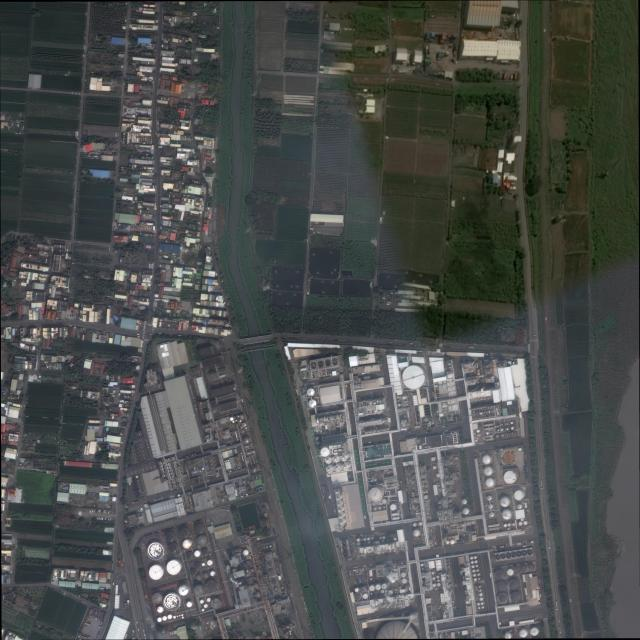large-vehicle: (95, 611, 99, 620), (221, 509, 229, 512), (548, 539, 550, 549), (556, 601, 558, 610), (541, 480, 543, 489), (559, 626, 561, 634), (127, 505, 132, 508), (133, 502, 138, 504), (469, 346, 473, 348)
storage-tank: (401, 366, 425, 390), (147, 542, 164, 561), (163, 594, 180, 611), (368, 488, 382, 502), (167, 560, 180, 575), (149, 566, 162, 580), (504, 471, 516, 484), (211, 598, 221, 609), (152, 593, 162, 604), (206, 581, 216, 591), (178, 586, 188, 596), (193, 586, 203, 596), (500, 497, 510, 507), (179, 529, 188, 539), (502, 510, 511, 520), (514, 491, 523, 501), (482, 455, 491, 465), (511, 592, 520, 602), (509, 580, 518, 590), (197, 536, 206, 545), (182, 540, 191, 549), (168, 544, 177, 553), (484, 467, 493, 476), (498, 594, 507, 603), (496, 582, 505, 591), (321, 447, 329, 457), (195, 525, 203, 534), (166, 533, 174, 542), (486, 478, 494, 487), (307, 389, 315, 397), (496, 570, 503, 579), (243, 437, 250, 445), (340, 454, 347, 462), (333, 455, 340, 463), (531, 628, 538, 636), (519, 630, 527, 637), (309, 400, 316, 408), (251, 466, 258, 473), (342, 464, 349, 471), (334, 465, 341, 472), (325, 457, 332, 464), (354, 593, 361, 600), (194, 563, 201, 570), (520, 566, 527, 573), (413, 530, 420, 537), (326, 467, 333, 473), (202, 549, 208, 556), (186, 553, 193, 559), (463, 508, 469, 515), (505, 632, 511, 639), (507, 569, 513, 576), (390, 504, 396, 511), (528, 565, 534, 571), (186, 602, 192, 608), (157, 607, 163, 613), (194, 551, 200, 557), (191, 570, 197, 576), (243, 550, 248, 556), (369, 586, 375, 591), (360, 588, 365, 594), (203, 573, 209, 578), (207, 560, 212, 566), (339, 519, 344, 524), (338, 513, 343, 518), (337, 501, 342, 506), (336, 495, 341, 500), (363, 594, 368, 599), (162, 616, 167, 621), (157, 617, 162, 622), (196, 575, 201, 580), (210, 571, 215, 576), (517, 504, 522, 509), (488, 504, 493, 509), (462, 499, 467, 504), (487, 495, 492, 500), (382, 499, 387, 504), (353, 376, 358, 381), (382, 584, 387, 589), (375, 585, 380, 590), (402, 579, 407, 584), (401, 573, 406, 578), (338, 507, 342, 513), (490, 512, 494, 517), (388, 590, 392, 595), (523, 521, 527, 525), (242, 423, 246, 427), (178, 473, 182, 477), (173, 461, 177, 465), (247, 556, 251, 560), (357, 542, 361, 546), (356, 538, 360, 542), (355, 588, 359, 592), (204, 604, 208, 608), (207, 598, 211, 602), (200, 600, 204, 604), (168, 615, 172, 619), (186, 504, 190, 508), (518, 522, 522, 526), (450, 540, 454, 544), (240, 415, 243, 419), (230, 417, 233, 421), (178, 470, 181, 474), (165, 463, 168, 467), (374, 507, 377, 511), (172, 457, 175, 461), (168, 458, 171, 462), (160, 464, 163, 468), (158, 461, 161, 465), (186, 500, 189, 504), (185, 496, 188, 500), (316, 437, 319, 441), (508, 523, 511, 527), (466, 522, 470, 525), (513, 567, 517, 570), (480, 597, 483, 601), (419, 522, 422, 526), (413, 523, 416, 527), (402, 396, 405, 400), (393, 533, 396, 537), (437, 583, 441, 586), (237, 415, 240, 418), (239, 419, 242, 422), (235, 419, 238, 422), (177, 467, 180, 470), (174, 465, 177, 468), (171, 475, 174, 478), (171, 472, 174, 475), (170, 469, 173, 472), (169, 466, 172, 469), (168, 463, 171, 466), (257, 537, 260, 540), (368, 541, 371, 544), (367, 538, 370, 541), (363, 538, 366, 541), (165, 459, 168, 462), (201, 609, 204, 612), (173, 616, 176, 619), (162, 474, 165, 477), (161, 467, 164, 470), (202, 563, 205, 566), (316, 442, 319, 445), (322, 432, 325, 435), (474, 556, 477, 559), (470, 557, 473, 560), (512, 523, 515, 526), (504, 524, 507, 527), (446, 541, 449, 544), (471, 521, 474, 524), (501, 434, 504, 437), (471, 561, 474, 564), (472, 570, 475, 573), (481, 606, 484, 609), (477, 603, 480, 606), (479, 593, 482, 596), (474, 578, 477, 581), (473, 574, 476, 577), (476, 569, 479, 572), (394, 538, 397, 541), (379, 537, 382, 540), (378, 507, 381, 510), (355, 386, 358, 389), (382, 540, 385, 543), (389, 534, 392, 537), (511, 427, 514, 430), (486, 432, 489, 435), (477, 430, 480, 433), (381, 590, 384, 593), (433, 584, 436, 587), (436, 576, 439, 579), (432, 577, 435, 580), (431, 572, 434, 575), (420, 564, 423, 567), (232, 421, 235, 423), (270, 545, 272, 548), (371, 537, 373, 540), (360, 539, 363, 541), (239, 582, 241, 585), (191, 454, 194, 456), (177, 495, 180, 497), (475, 561, 477, 564), (447, 563, 450, 565), (447, 559, 449, 562), (472, 565, 474, 568), (478, 606, 480, 609), (481, 602, 483, 605), (479, 589, 481, 592), (466, 601, 468, 604), (477, 574, 480, 576), (476, 565, 478, 568), (496, 435, 498, 438), (501, 428, 503, 431), (382, 537, 385, 539), (383, 506, 385, 509), (406, 403, 408, 406), (398, 404, 400, 407), (337, 372, 340, 374), (330, 373, 332, 376), (323, 375, 326, 377), (308, 396, 310, 399), (506, 428, 509, 430), (478, 434, 480, 437), (480, 412, 482, 415), (385, 590, 388, 592), (437, 579, 439, 582), (246, 494, 248, 496), (235, 484, 237, 486), (245, 427, 247, 429), (202, 468, 204, 470), (182, 617, 184, 619), (181, 614, 183, 616), (179, 615, 181, 617), (194, 453, 196, 455), (186, 456, 188, 458), (448, 566, 450, 568), (498, 430, 500, 432), (469, 601, 471, 603), (478, 578, 480, 580), (426, 491, 428, 493), (405, 401, 407, 403), (397, 396, 399, 398), (358, 386, 360, 388), (305, 397, 307, 399), (511, 422, 513, 424), (506, 423, 508, 425), (501, 424, 503, 426), (497, 426, 499, 428), (475, 440, 477, 442), (422, 568, 424, 570), (228, 460, 229, 462), (226, 460, 227, 462), (224, 461, 226, 462), (241, 426, 242, 428), (177, 615, 178, 617), (479, 586, 480, 588), (424, 492, 425, 494), (495, 426, 496, 428), (401, 563, 403, 564)
